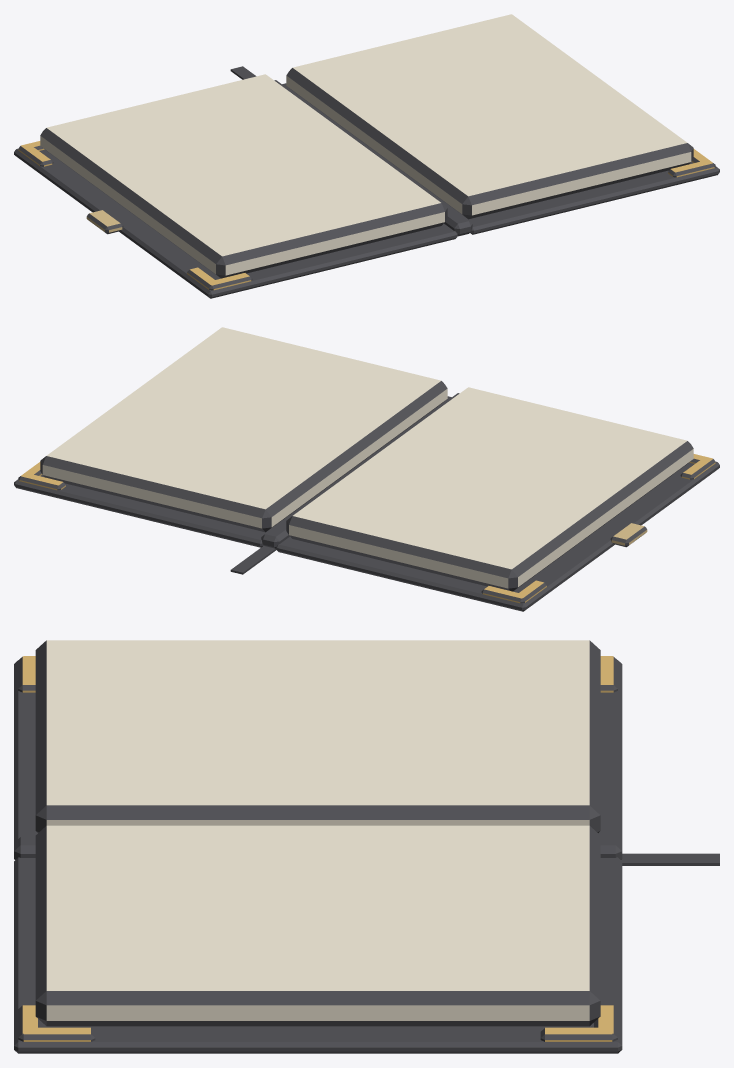
The model's file is Book_Log.fbx.
The picture shows the model from 3 angles, top to bottom: view 1: azimuth 30°, elevation 25°; view 2: azimuth 150°, elevation 25°; view 3: azimuth 270°, elevation 25°; orthographic projection. The views are drawn at different scales.
Parts seen in each view (by area): view 1: Book_Log; view 2: Book_Log; view 3: Book_Log.
Part boxes in pixels (x1,y1,x2,y2): Book_Log: (14, 14, 719, 298); Book_Log: (14, 327, 719, 611); Book_Log: (14, 640, 719, 1053).
Bounding box in the file's own units: 0.865 × 0.048 × 0.65.
